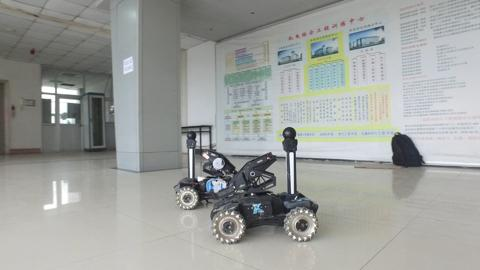chariot: (208, 122, 330, 245), (172, 129, 246, 210)
